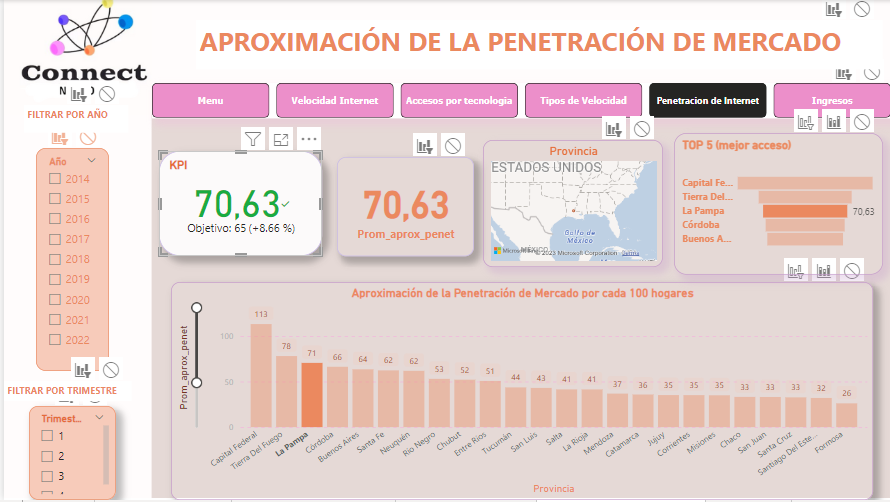

This screenshot's page, from the dashboard's own definition file:
{"tool":"powerbi","page":{"name":"Penetracion de Internet","canvas":[1280,720],"ordinal":4},"visuals":[{"type":"pageNavigator","box":[212.8,119.7,1067.2,50.8],"z":0},{"type":"clusteredColumnChart","title":"Aproximación de la Penetración de Mercado por cada 100 hogares","fields":{"Y":["Internet_Penetracion.KPI_aprox_penet"],"Category":["Internet_Penetracion.Provincia"]},"box":[240.5,406.1,1010.9,313.9],"z":1000},{"type":"slicer","fields":{"Values":["Internet_Penetracion.Año.Variación.Jerarquía de fechas.Año"]},"box":[46.1,213.1,105.1,321.1],"z":2000},{"type":"textbox","box":[28.8,151.2,149.8,40.3],"z":3000},{"type":"textbox","box":[276.5,28.8,989.3,70.6],"z":4000},{"type":"card","fields":{"Values":["Internet_Penetracion.Promedio_accesos"]},"box":[479.5,226.1,197.3,142.6],"z":5000},{"type":"map","fields":{"Category":["Internet_Penetracion.Provincia"]},"box":[689.8,201.6,259.2,182.9],"z":6000},{"type":"funnel","title":"TOP 5 (mejor acceso)","fields":{"Category":["Internet_Penetracion.Provincia"],"Y":["Internet_Penetracion.Promedio_accesos"]},"box":[964.8,191.5,301,204.5],"z":7000},{"type":"slicer","fields":{"Values":["Internet_Penetracion.Trimestre"]},"box":[36,584.6,125.3,135.4],"z":8000},{"type":"textbox","box":[0,548.6,184.3,28.8],"z":9000},{"type":"kpi","title":"KPI","fields":{"Goal":["Internet_Penetracion.KPI_acceso"],"Indicator":["Internet_Penetracion.Prom_aprox_penet"],"TrendLine":["Internet_Penetracion.Provincia"]},"box":[223.2,217.4,234.7,151.2],"z":9001}]}

Visuals, with their boxes on the page's 1280x720 design canvas (x1, y1, x2, y2). These are canvas units, not pixel positions in the 890x502 screenshot, which may show the page scaled, cropped or inside an application window:
pageNavigator: (left=213, top=120, right=1280, bottom=170)
"Aproximación de la Penetración de Mercado por cada 100 hogares" clusteredColumnChart: (left=240, top=406, right=1251, bottom=720)
slicer - Internet_Penetracion.Año.Variación.Jerarquía de fechas.Año: (left=46, top=213, right=151, bottom=534)
textbox: (left=29, top=151, right=179, bottom=192)
textbox: (left=276, top=29, right=1266, bottom=99)
card - Internet_Penetracion.Promedio_accesos: (left=480, top=226, right=677, bottom=369)
map - Internet_Penetracion.Provincia: (left=690, top=202, right=949, bottom=384)
"TOP 5 (mejor acceso)" funnel: (left=965, top=192, right=1266, bottom=396)
slicer - Internet_Penetracion.Trimestre: (left=36, top=585, right=161, bottom=720)
textbox: (left=0, top=549, right=184, bottom=577)
"KPI" kpi: (left=223, top=217, right=458, bottom=369)
